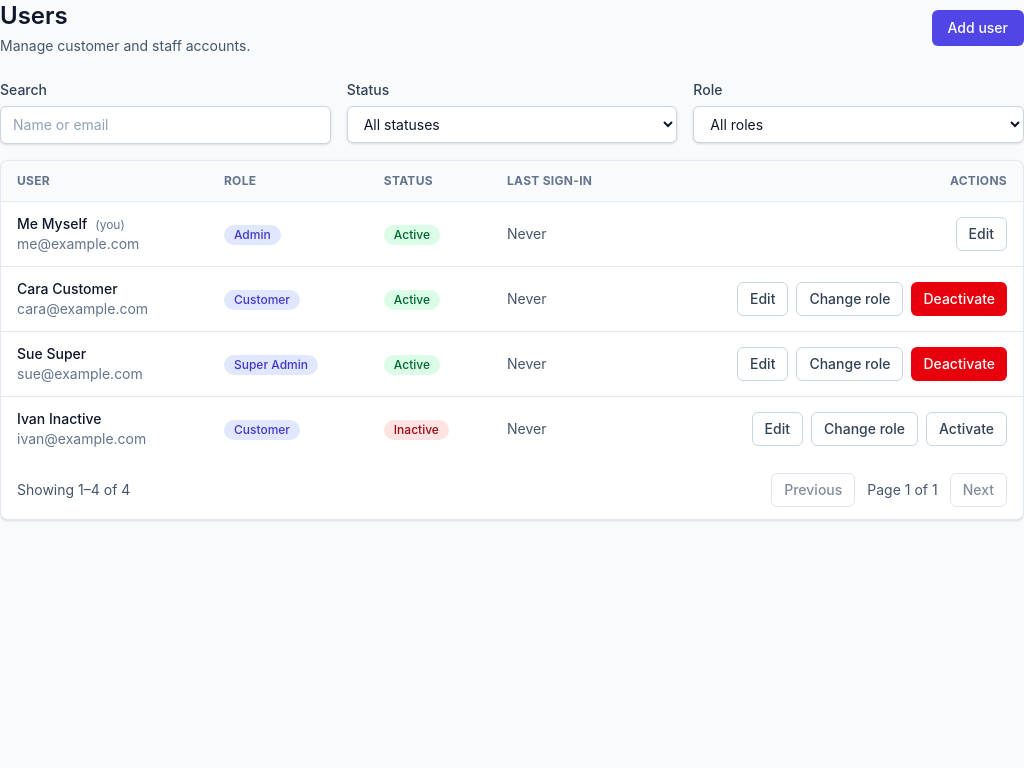
Test: UsersPage › as a Super Admin › asks for confirmation, then deactivates and refreshes the list
This screenshot has width=1024, height=768.
Click the button named "Deactivate Cara Customer" at (959, 299), box x1=912 y1=282 x2=1007 y2=316
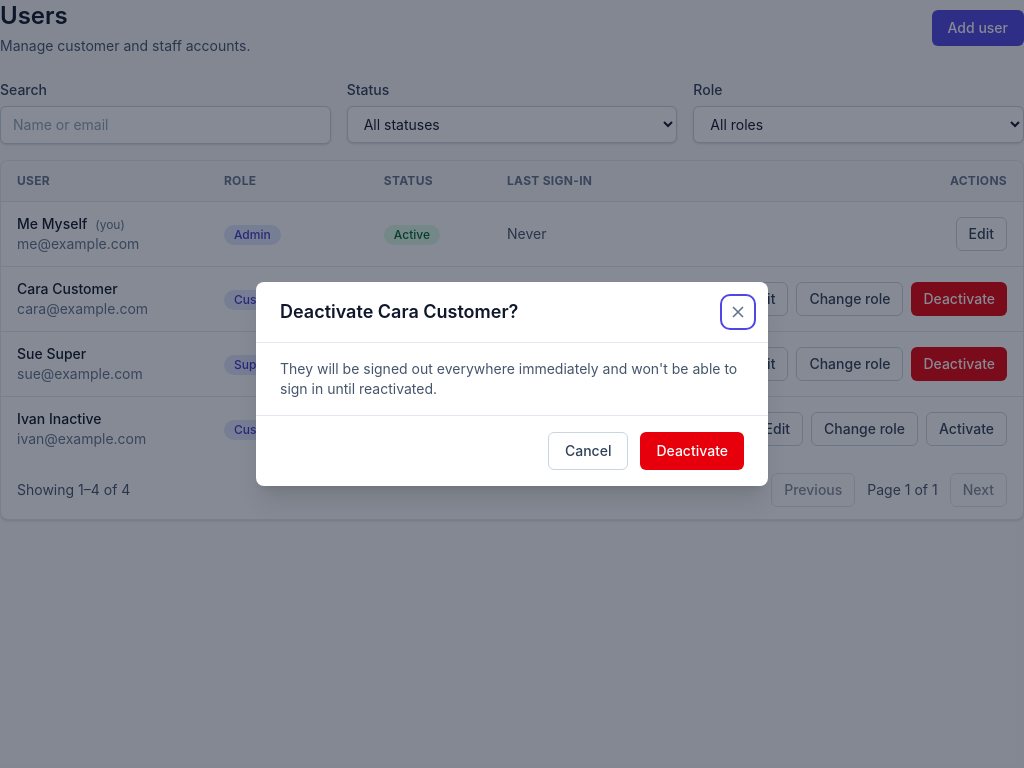
Result: the text "signed out everywhere immediately" is shown at x1=280 y1=360 x2=737 y2=397
Click the button "Deactivate" at (692, 451), box x1=640 y1=432 x2=744 y2=470
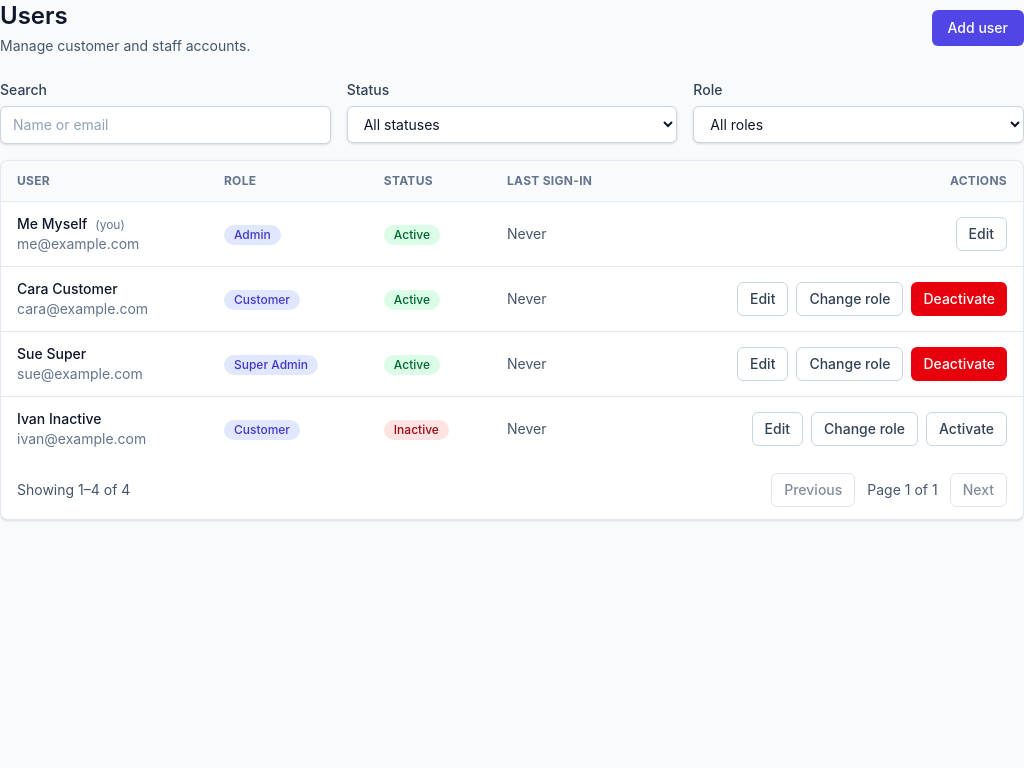
Result: the dialog is gone
